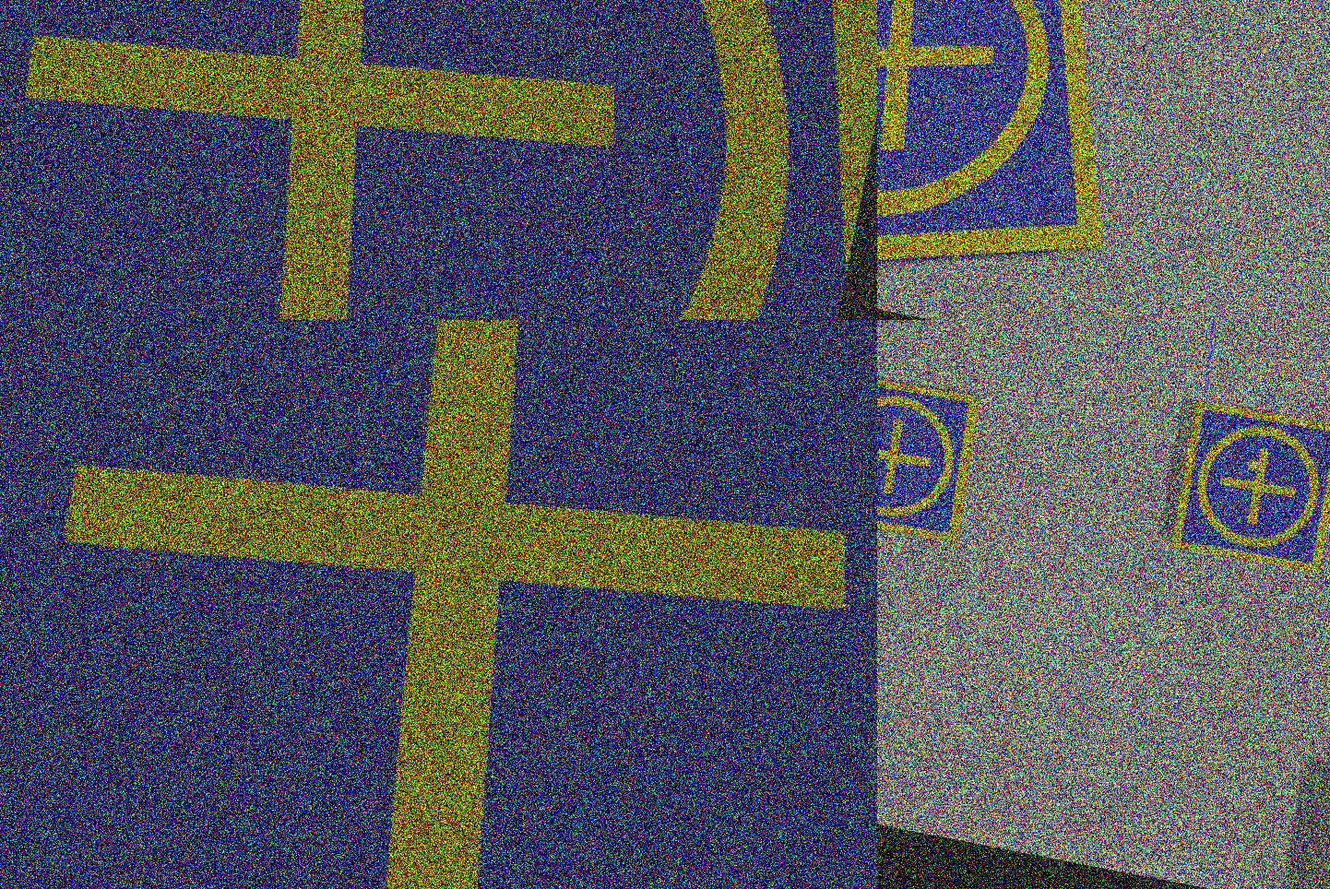large_base: (1, 321, 877, 889), (1, 1, 877, 321)
small_base: (877, 1, 1167, 321), (1167, 397, 1330, 579), (877, 367, 986, 550)
